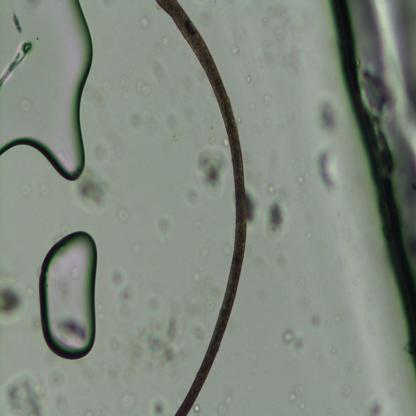Air bubble: (0, 0, 95, 182), (38, 228, 98, 360)
Background material: (103, 271, 195, 370), (127, 98, 195, 141), (256, 12, 298, 66), (1, 369, 49, 416), (196, 142, 230, 196), (75, 164, 111, 211), (0, 39, 33, 85), (266, 180, 290, 240), (0, 276, 27, 322), (314, 90, 340, 134), (317, 144, 339, 194), (150, 202, 175, 243), (47, 364, 69, 406), (94, 135, 121, 168), (281, 326, 307, 356), (246, 188, 261, 226), (108, 262, 126, 291), (118, 385, 137, 412), (286, 379, 305, 405), (150, 394, 168, 415), (117, 204, 133, 225), (11, 9, 23, 36), (256, 90, 274, 106), (139, 83, 156, 99), (310, 311, 324, 329), (368, 398, 383, 414), (230, 41, 241, 59), (142, 12, 153, 30), (192, 400, 202, 412), (245, 75, 252, 85)
Edge of slide: (327, 0, 416, 369)
Microfibre: (155, 0, 250, 416)
